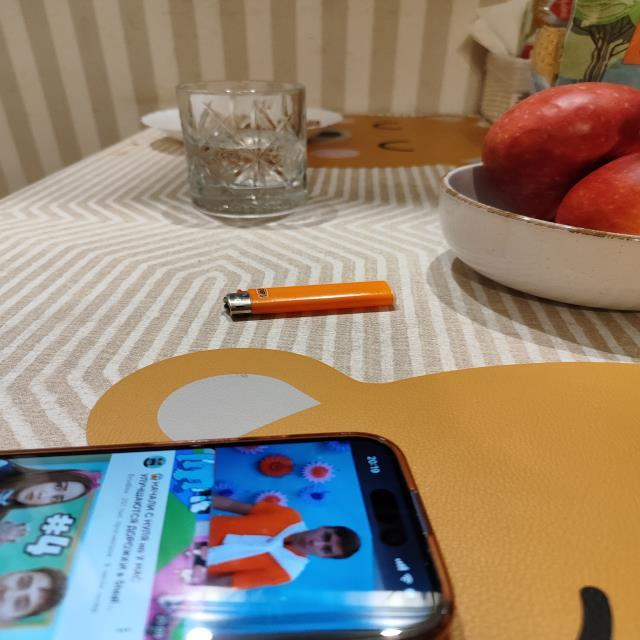lighter: (224, 281, 394, 316)
